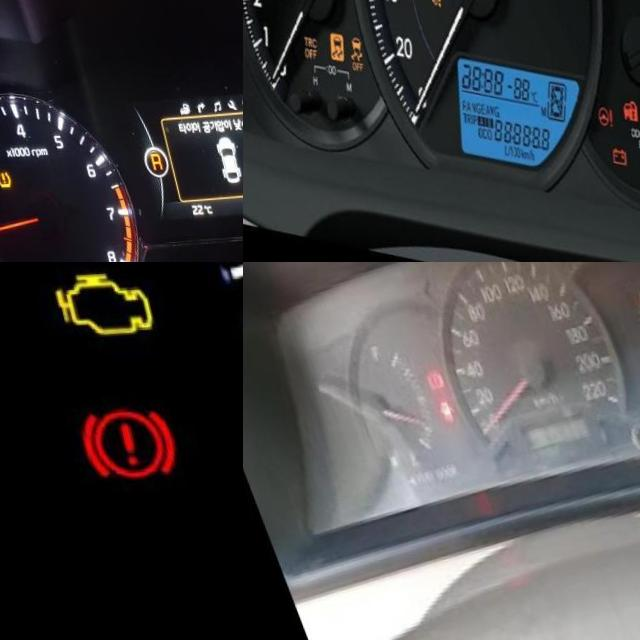Electronic Power Steering: (572, 112, 592, 133)
